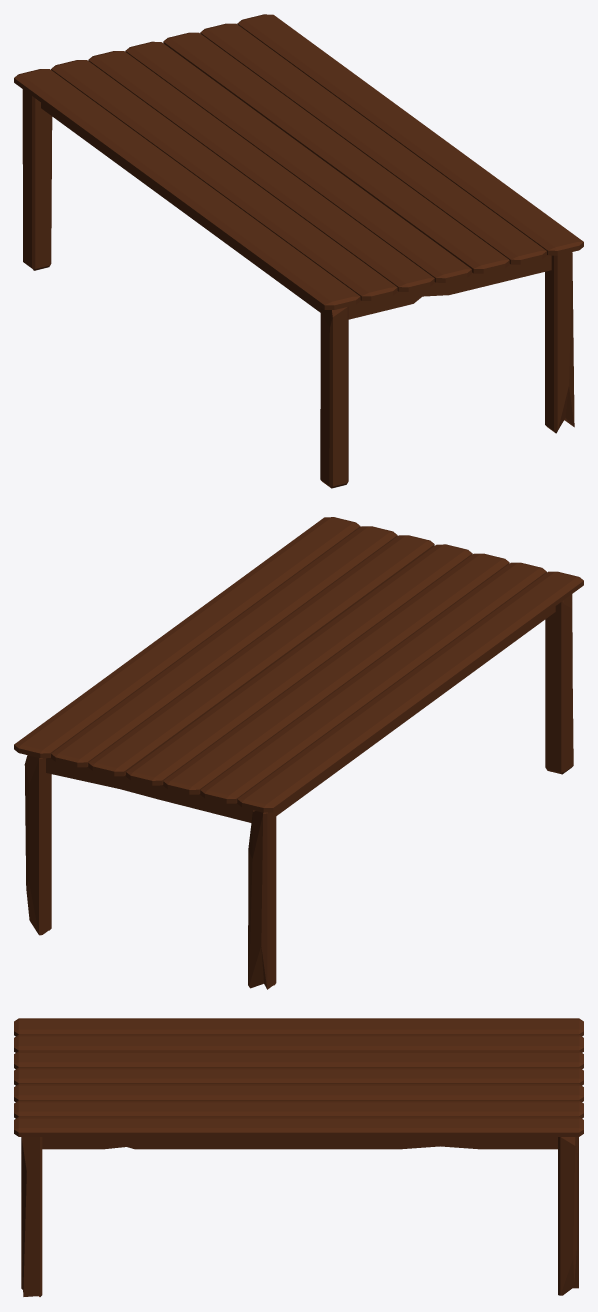
File: Mesa medieval.fbx
3 views of the same model, one above another, from view 1: azimuth 30°, elevation 25°; view 2: azimuth 150°, elevation 25°; view 3: azimuth 270°, elevation 25° (orthographic). The views are drawn at different scales.
Visible parts, largest first — view 1: Cube.015; view 2: Cube.015; view 3: Cube.015.
Part boxes in pixels (x1,y1,x2,y2): Cube.015: (14, 14, 583, 488); Cube.015: (14, 517, 583, 989); Cube.015: (14, 1018, 583, 1296).
Bounding box in the file's own units: 2.72 × 1.9 × 5.74.
